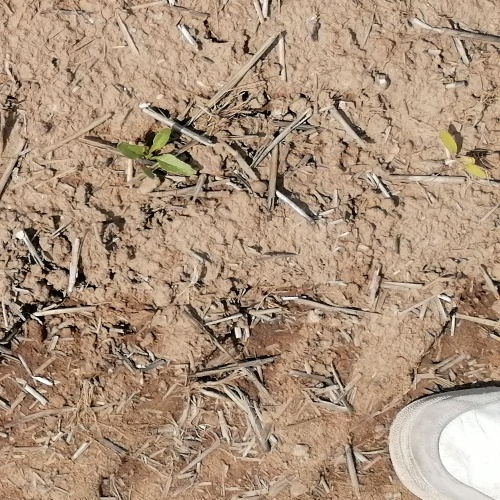beet: (118, 127, 198, 177), (437, 130, 488, 179)
